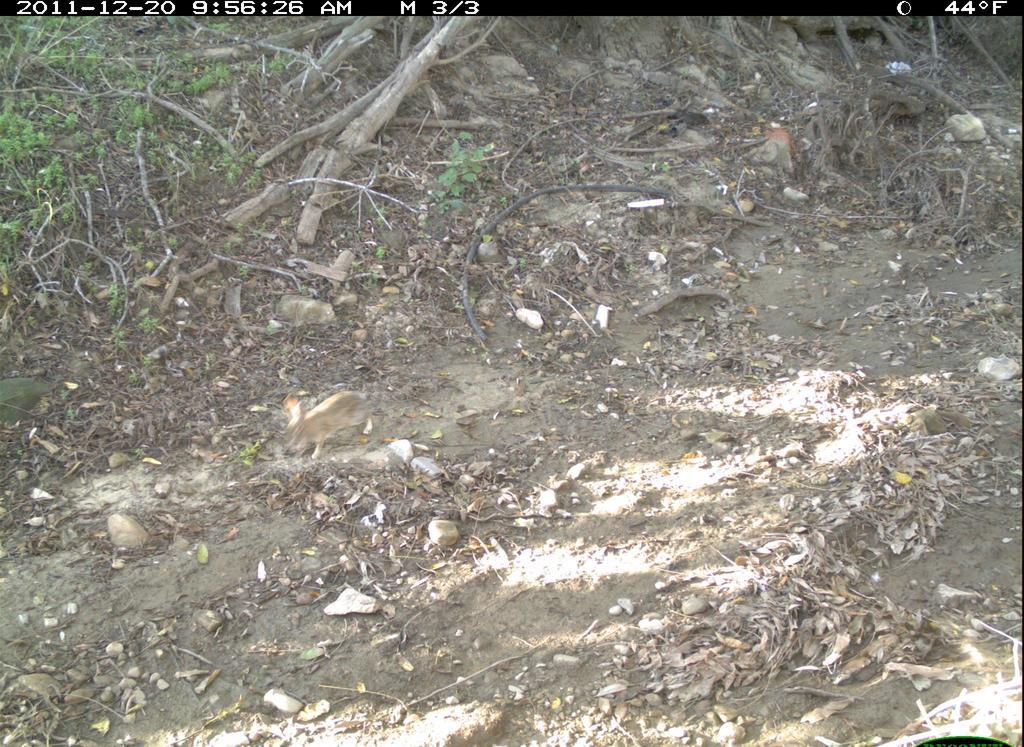rabbit: (267, 378, 388, 469)
